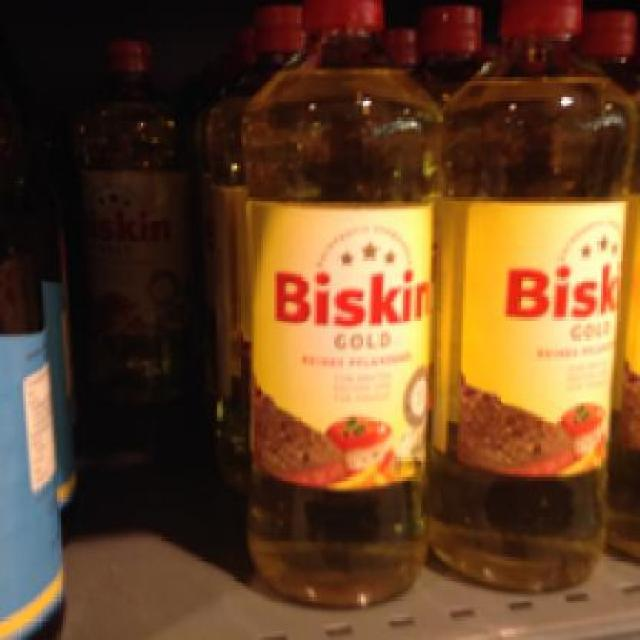Oil: (240, 0, 437, 603), (436, 0, 635, 592), (74, 37, 197, 410)
